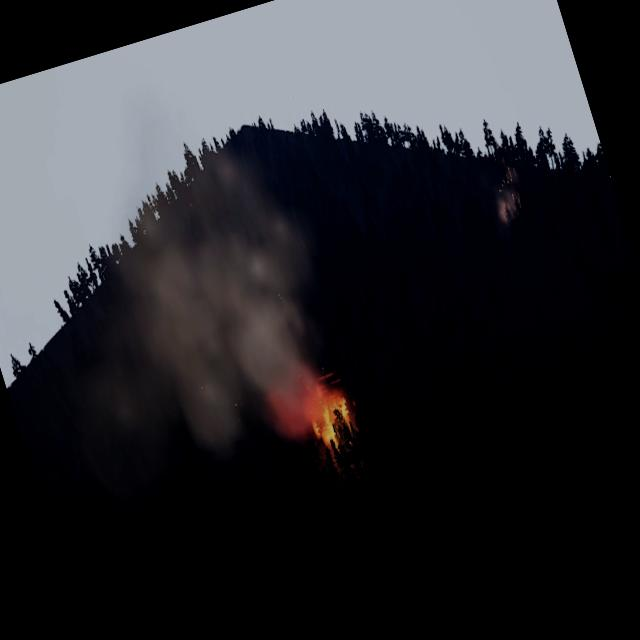fire: (296, 366, 369, 471)
smoke: (13, 133, 365, 504), (487, 170, 530, 229)
